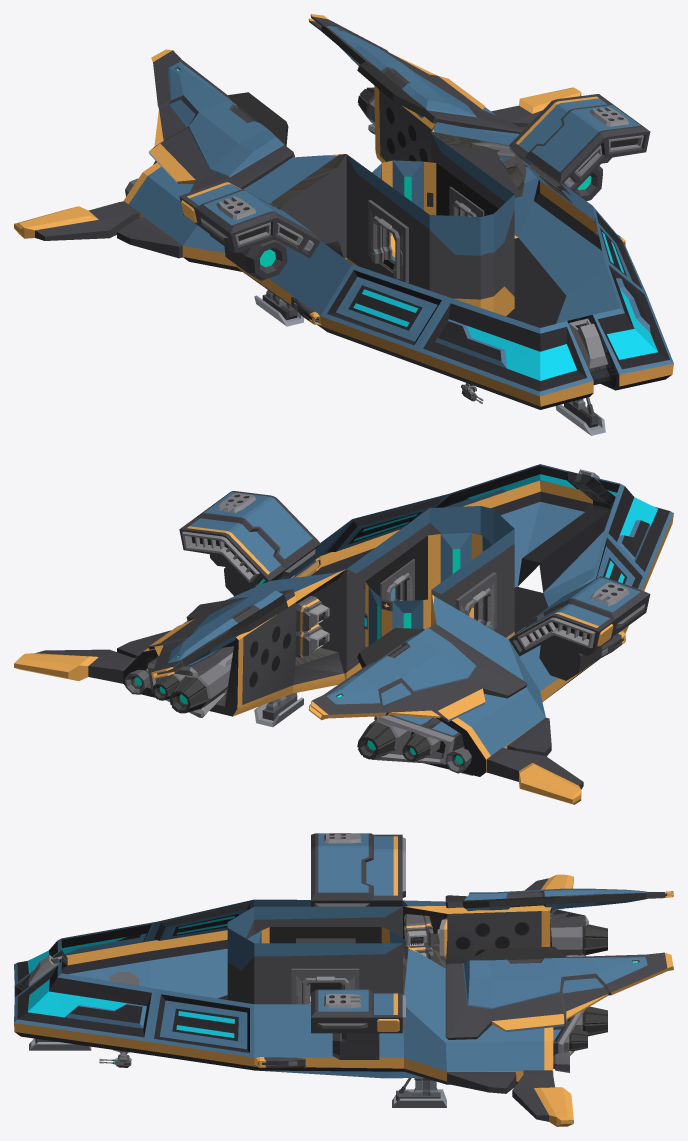
Rendered from Exteror.fbx.
The picture shows the model from 3 angles, top to bottom: view 1: azimuth 30°, elevation 25°; view 2: azimuth 150°, elevation 25°; view 3: azimuth 270°, elevation 25°; orthographic projection. The views are drawn at different scales.
Visible parts, largest first — view 1: polySurface150, SM_Veh_Part_Wing_01, SM_Veh_Part_Wing_017, SM_Veh_Part_Wing_019, SM_Veh_Part_Wing_016, SM_Veh_Part_Wing_013, polySurface63, SM_Bld_Wall_Doorframe_12, SM_Veh_Part_Misc_04, SM_Veh_Part_Wing_018, SM_Veh_Part_Misc_011, SM_Veh_Part_LandingGear_Flat_02 (+3 smaller); view 2: polySurface150, SM_Veh_Part_Wing_01, SM_Veh_Part_Wing_017, polySurface63, SM_Veh_Part_Wing_016, SM_Veh_Part_Wing_019, SM_Veh_Part_Engine_21, SM_Veh_Part_Wing_013, SM_Veh_Part_Engine_08, SM_Veh_Part_Wing_018, SM_Veh_Part_Misc_04, SM_Bld_Wall_Doorframe_12 (+7 smaller); view 3: polySurface150, SM_Veh_Part_Wing_019, SM_Veh_Part_Wing_016, SM_Veh_Part_Wing_017, SM_Veh_Part_Wing_018, SM_Veh_Part_Wing_01, SM_Veh_Part_Engine_21, polySurface63, SM_Veh_Part_Engine_08, SM_Bld_Wall_Doorframe_09, SM_Veh_Part_Misc_015, SM_Veh_Part_LandingGear_Flat_03 (+4 smaller).
Part boxes in pixels (<box>): polySurface150: <box>123,85,673,409</box>; SM_Veh_Part_Wing_01: <box>148,49,294,192</box>; SM_Veh_Part_Wing_017: <box>509,94,650,195</box>; SM_Veh_Part_Wing_019: <box>308,14,523,133</box>; SM_Veh_Part_Wing_016: <box>179,180,320,258</box>; SM_Veh_Part_Wing_013: <box>14,201,182,258</box>; polySurface63: <box>372,160,498,269</box>; SM_Bld_Wall_Doorframe_12: <box>368,200,408,282</box>; SM_Veh_Part_Misc_04: <box>210,234,287,280</box>; SM_Veh_Part_Wing_018: <box>491,87,581,129</box>; SM_Veh_Part_Misc_011: <box>568,318,607,369</box>; SM_Veh_Part_LandingGear_Flat_02: <box>555,397,605,435</box>; polySurface150: <box>123,464,673,776</box>; SM_Veh_Part_Wing_01: <box>308,624,527,722</box>; SM_Veh_Part_Wing_017: <box>179,491,320,587</box>; polySurface63: <box>365,532,492,647</box>; SM_Veh_Part_Wing_016: <box>509,576,650,656</box>; SM_Veh_Part_Wing_019: <box>148,589,294,678</box>; SM_Veh_Part_Engine_21: <box>357,715,463,764</box>; SM_Veh_Part_Wing_013: <box>486,717,583,804</box>; SM_Veh_Part_Engine_08: <box>148,646,233,717</box>; SM_Veh_Part_Wing_018: <box>14,630,171,683</box>; SM_Veh_Part_Misc_04: <box>539,637,612,680</box>; SM_Bld_Wall_Doorframe_12: <box>455,572,496,630</box>; polySurface150: <box>14,899,553,1084</box>; SM_Veh_Part_Wing_019: <box>445,946,673,1039</box>; SM_Veh_Part_Wing_016: <box>311,833,405,906</box>; SM_Veh_Part_Wing_017: <box>311,989,405,1033</box>; SM_Veh_Part_Wing_018: <box>447,1070,573,1126</box>; SM_Veh_Part_Wing_01: <box>445,888,673,911</box>; SM_Veh_Part_Engine_21: <box>437,909,607,960</box>; polySurface63: <box>247,927,405,1001</box>; SM_Veh_Part_Engine_08: <box>553,1006,607,1055</box>; SM_Bld_Wall_Doorframe_09: <box>291,968,359,1004</box>; SM_Veh_Part_Misc_015: <box>332,1033,379,1059</box>; SM_Veh_Part_LandingGear_Flat_03: <box>392,1078,446,1107</box>.
Size of the model in its own units: 4086 by 1124 by 4670.
